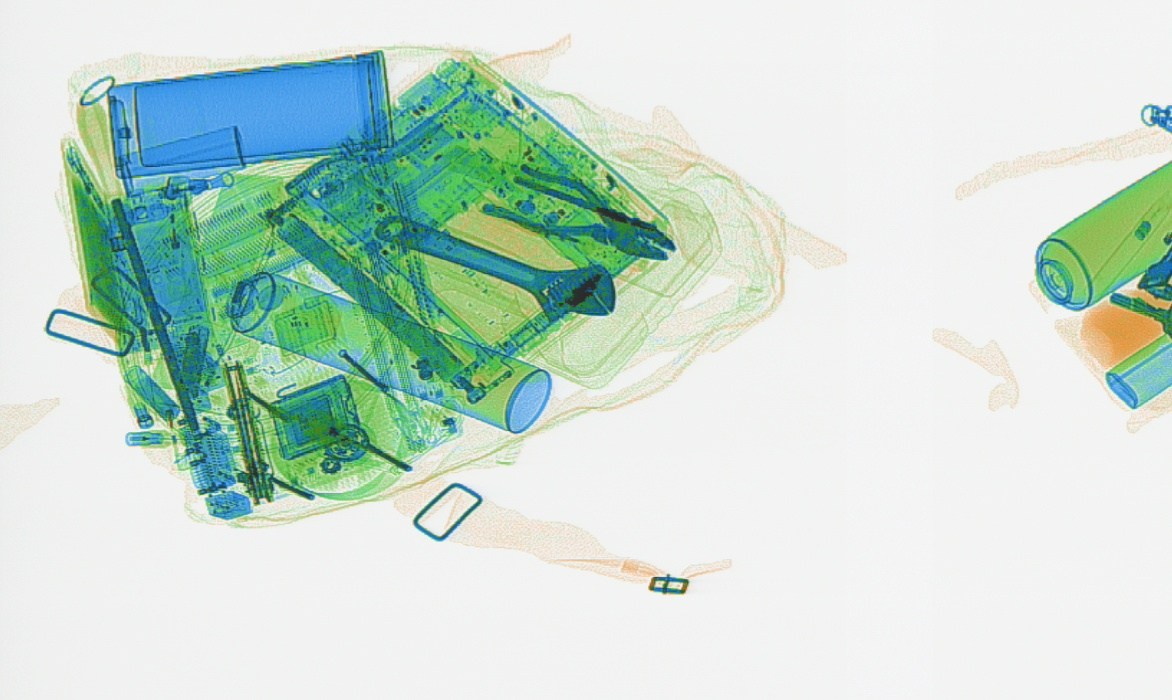knife: (216, 356, 274, 505)
lighter: (266, 369, 362, 462), (145, 345, 209, 474), (156, 172, 200, 303)
pressure: (221, 269, 553, 431), (1031, 161, 1169, 311)
